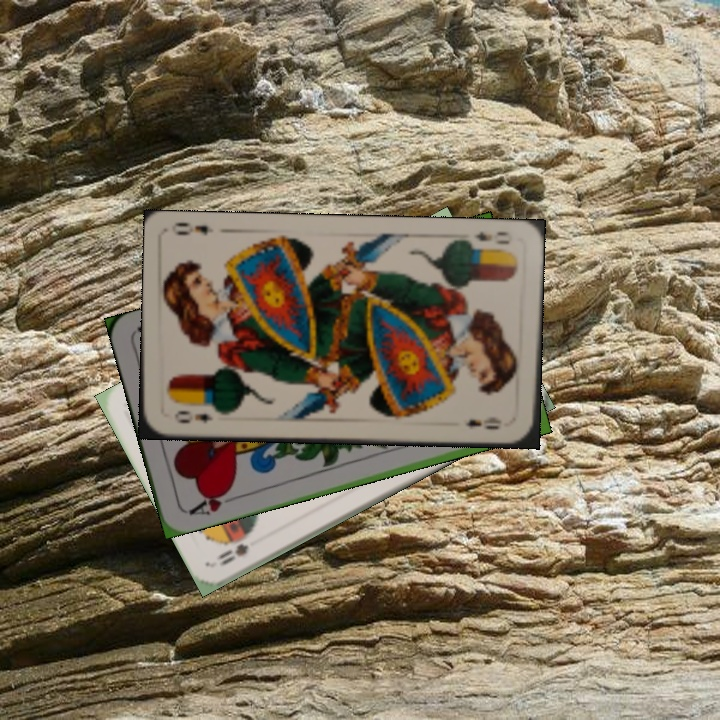EO: (170, 406, 215, 426), (470, 227, 512, 247)
HA: (184, 484, 234, 518)
SO: (212, 539, 251, 568)
